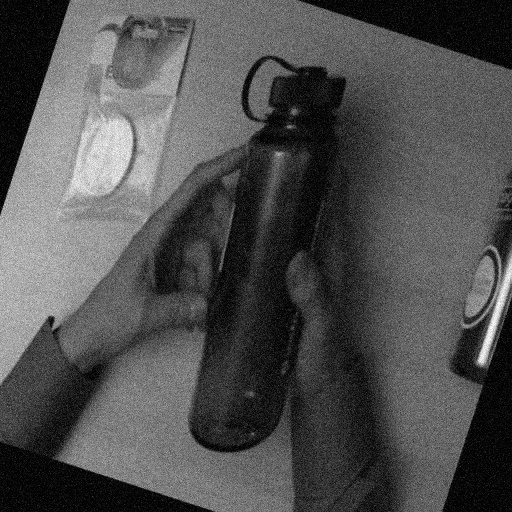bottle: (150, 50, 393, 472)
